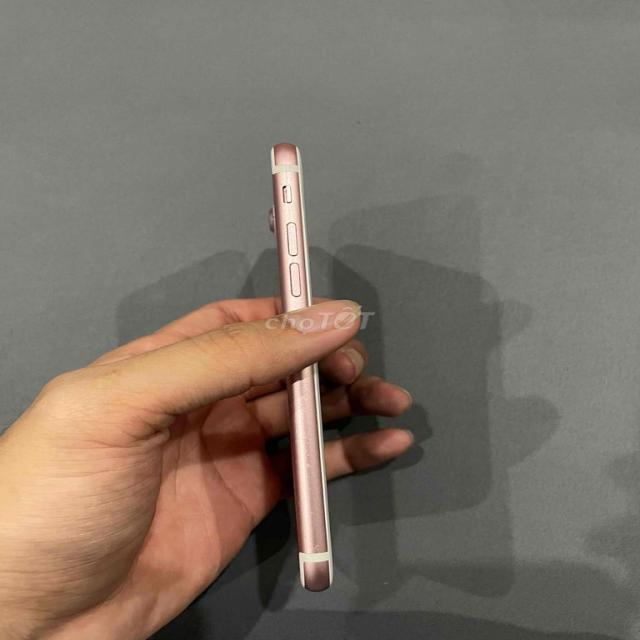gen_7_8: (262, 134, 349, 609)
scratch: (287, 389, 329, 572), (280, 146, 301, 208)
